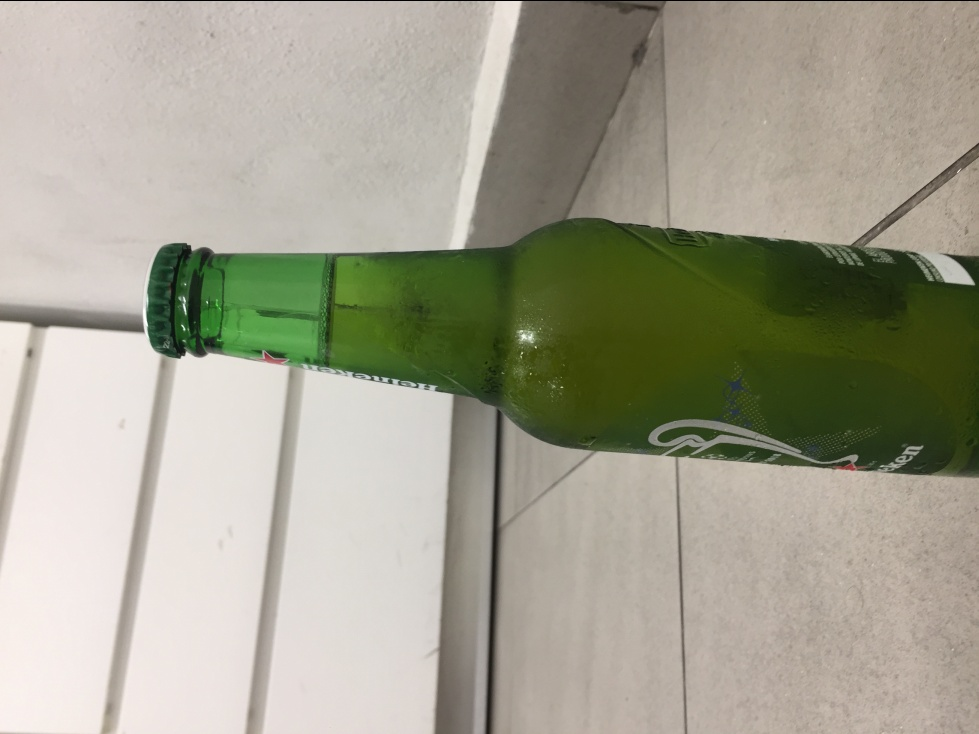heineken: (138, 213, 979, 479)
